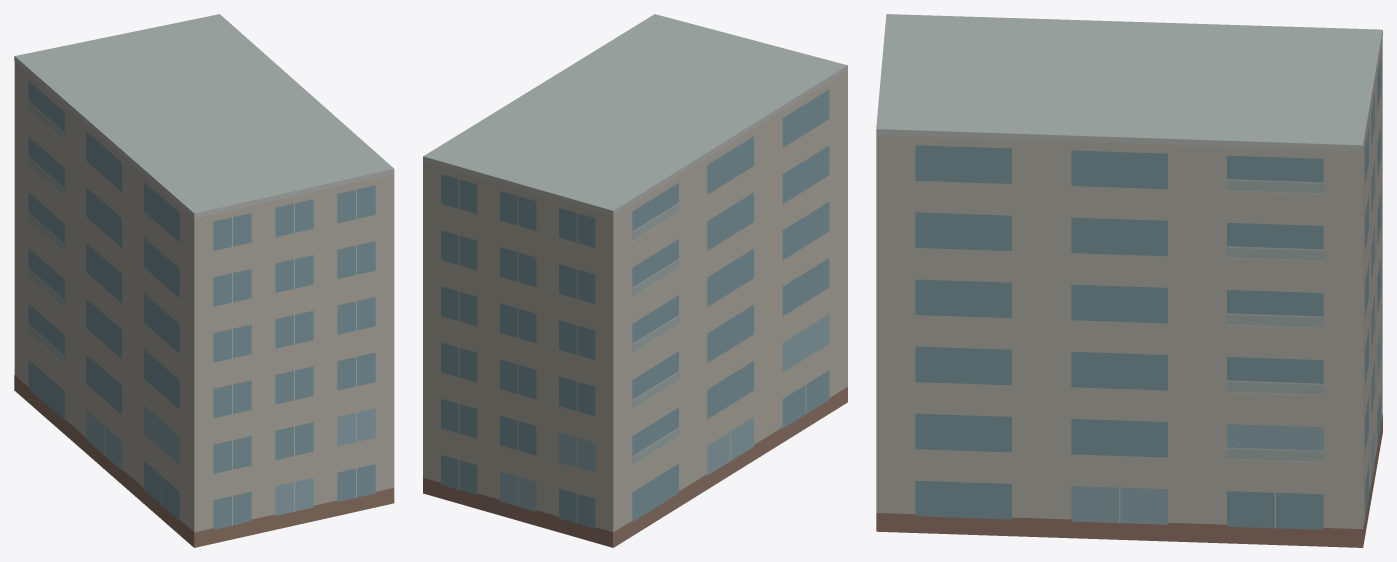
File: survey-upis-33016730.glb
3 renders of one model, left to right at view 1: azimuth 30°, elevation 25°; view 2: azimuth 150°, elevation 25°; view 3: azimuth 270°, elevation 25°, orthographic. The views are drawn at different scales.
Visible parts, largest first — view 1: survey-upis-33016730.tmp; view 2: survey-upis-33016730.tmp; view 3: survey-upis-33016730.tmp.
Part boxes in pixels (bbox=[...]): survey-upis-33016730.tmp: bbox=[14, 14, 394, 547]; survey-upis-33016730.tmp: bbox=[423, 14, 847, 547]; survey-upis-33016730.tmp: bbox=[876, 14, 1382, 547].
Bounding box in the file's own units: 11.34 × 16.2 × 18.49.
